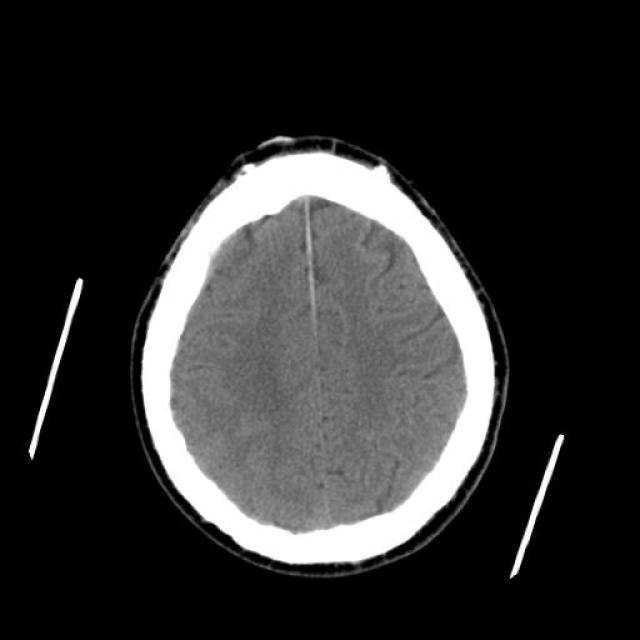Subdural: (241, 160, 380, 342)
